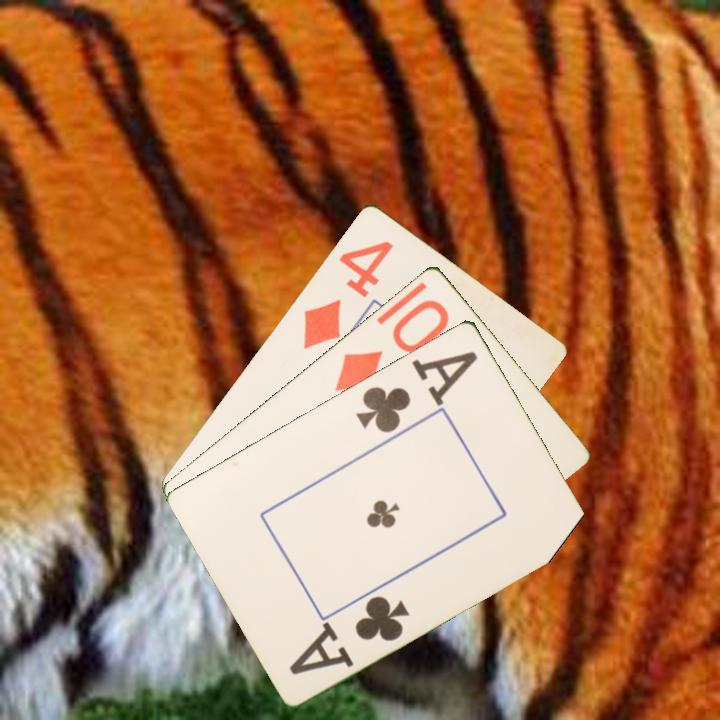10d: (331, 295, 452, 394)
4d: (299, 236, 396, 352)
Ac: (352, 346, 481, 436), (285, 591, 413, 678)
